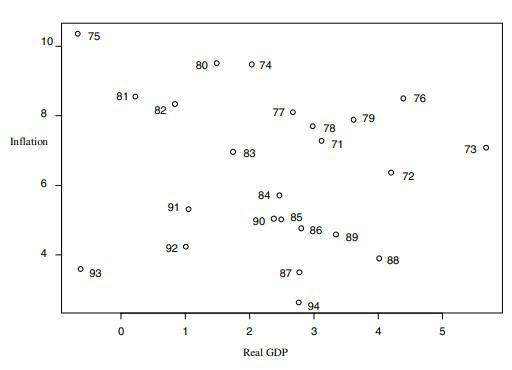axis: (56, 308, 507, 320), (53, 18, 67, 318)
point: (73, 263, 88, 276), (179, 240, 193, 253), (228, 145, 240, 160), (211, 58, 224, 70), (129, 91, 142, 103), (170, 98, 183, 110), (182, 203, 196, 214), (293, 297, 306, 308), (481, 142, 493, 153), (72, 29, 85, 39), (293, 267, 305, 277), (288, 106, 298, 117), (247, 59, 257, 70), (398, 93, 408, 104), (275, 191, 286, 201), (308, 121, 318, 131), (331, 230, 341, 240), (374, 254, 384, 264), (386, 168, 397, 177), (316, 136, 326, 145), (349, 116, 359, 125), (268, 215, 278, 224), (276, 215, 286, 224), (296, 224, 306, 233)
